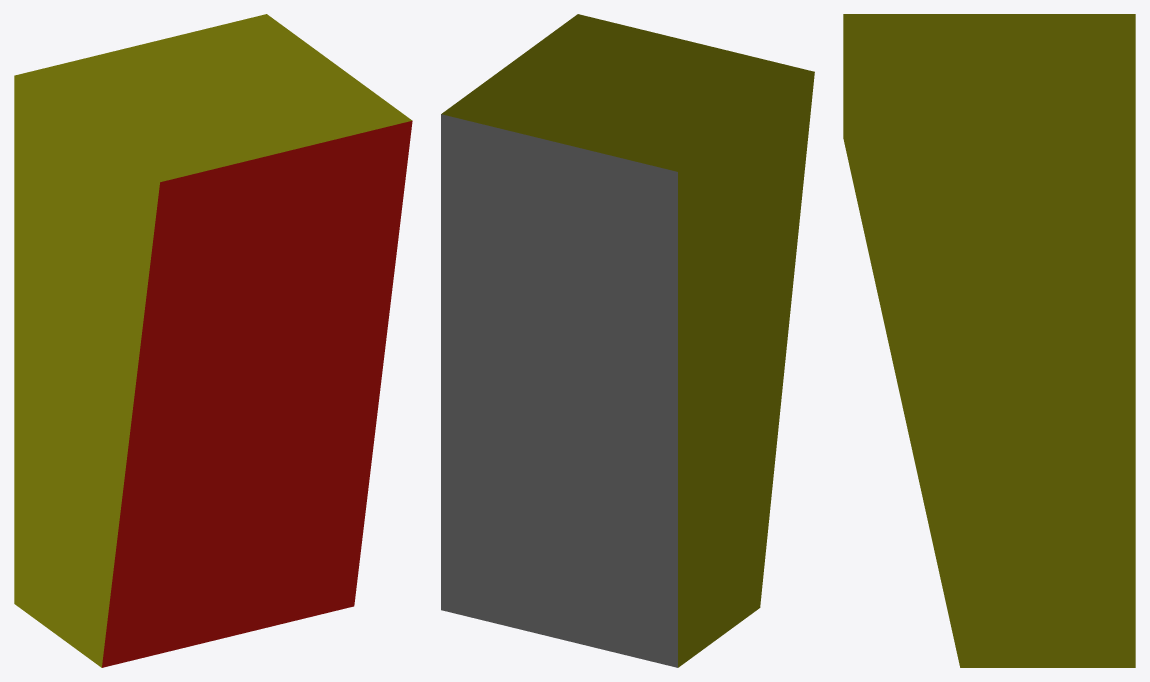
Rendered from idf.obj.
The picture shows the model from 3 angles, left to right: view 1: azimuth 30°, elevation 25°; view 2: azimuth 150°, elevation 25°; view 3: azimuth 270°, elevation 25°; orthographic projection. The views are drawn at different scales.
Bounding box in the file's own units: 5 × 10 × 5.
